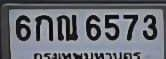3: (142, 13, 156, 39)
5: (104, 14, 118, 40)
6: (85, 14, 100, 40), (15, 14, 30, 40)
7: (122, 13, 137, 40)
A01: (34, 14, 52, 40)
A19: (56, 13, 77, 40)
